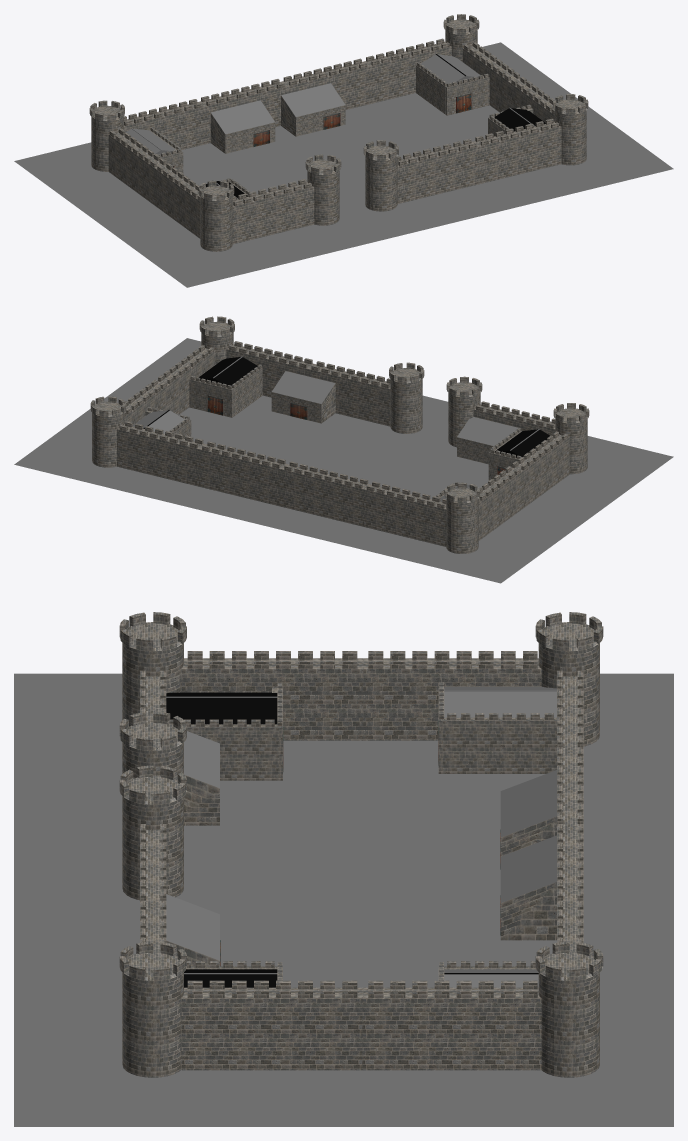
Rendered from castle.dae.
3 renders of one model, top to bottom at view 1: azimuth 30°, elevation 25°; view 2: azimuth 150°, elevation 25°; view 3: azimuth 270°, elevation 25°, orthographic. The views are drawn at different scales.
Visible parts, largest first — view 1: castle; view 2: castle; view 3: castle.
Boxes of the visible parts, box(x1,y1,x2,y2) form: castle: box(14, 14, 673, 287); castle: box(14, 316, 673, 583); castle: box(14, 612, 673, 1126).
Bounding box in the file's own units: 6159 × 704 × 3791.
